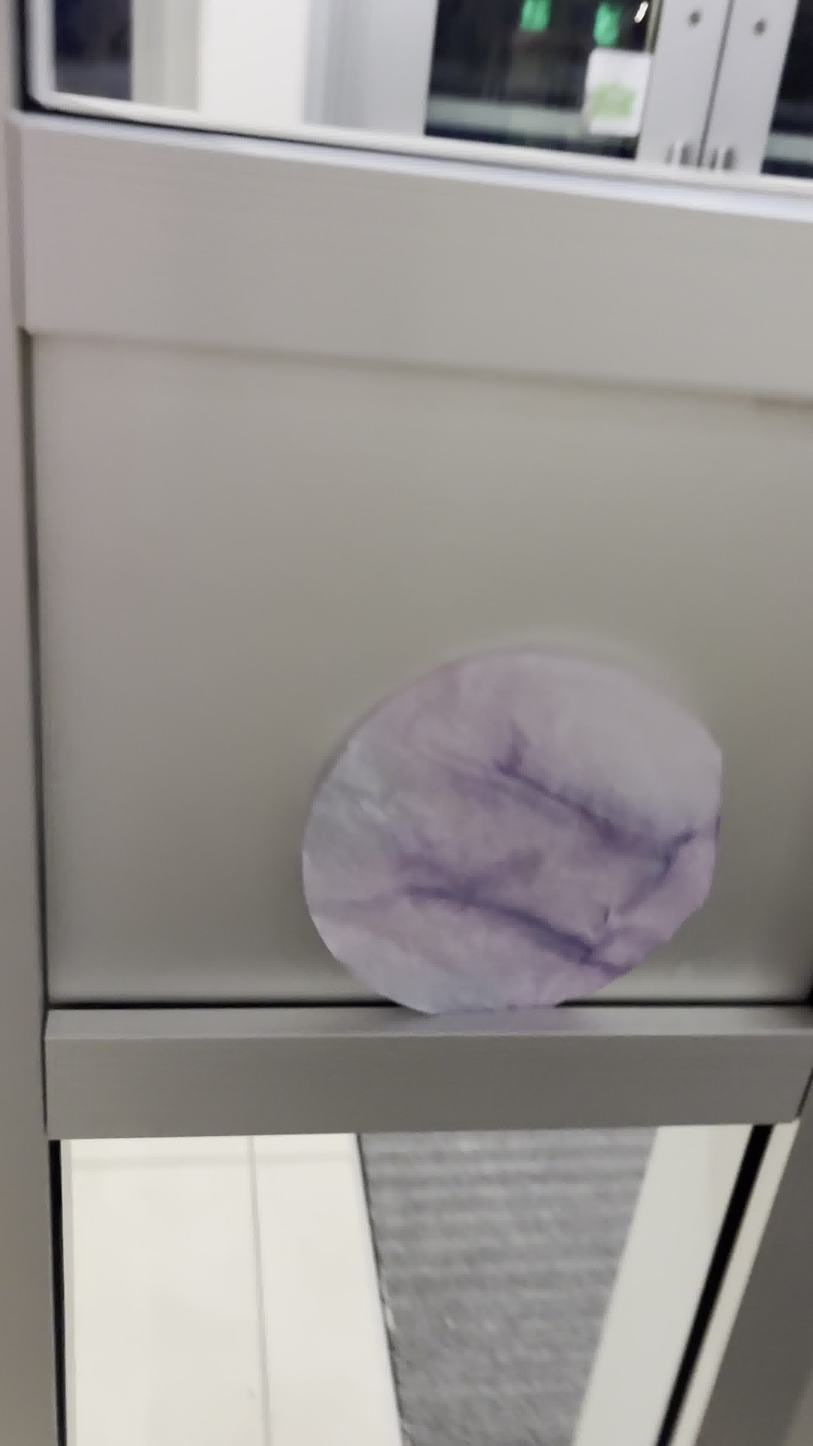Target: (277, 633, 742, 1031)
